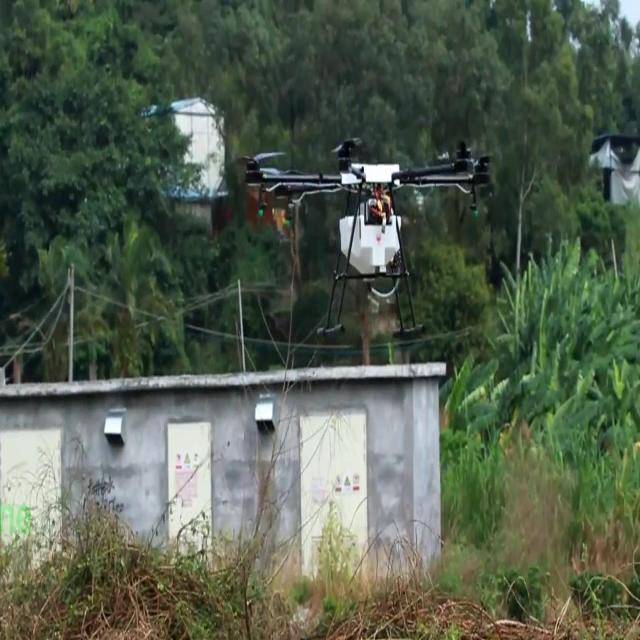drone: (244, 132, 494, 340)
